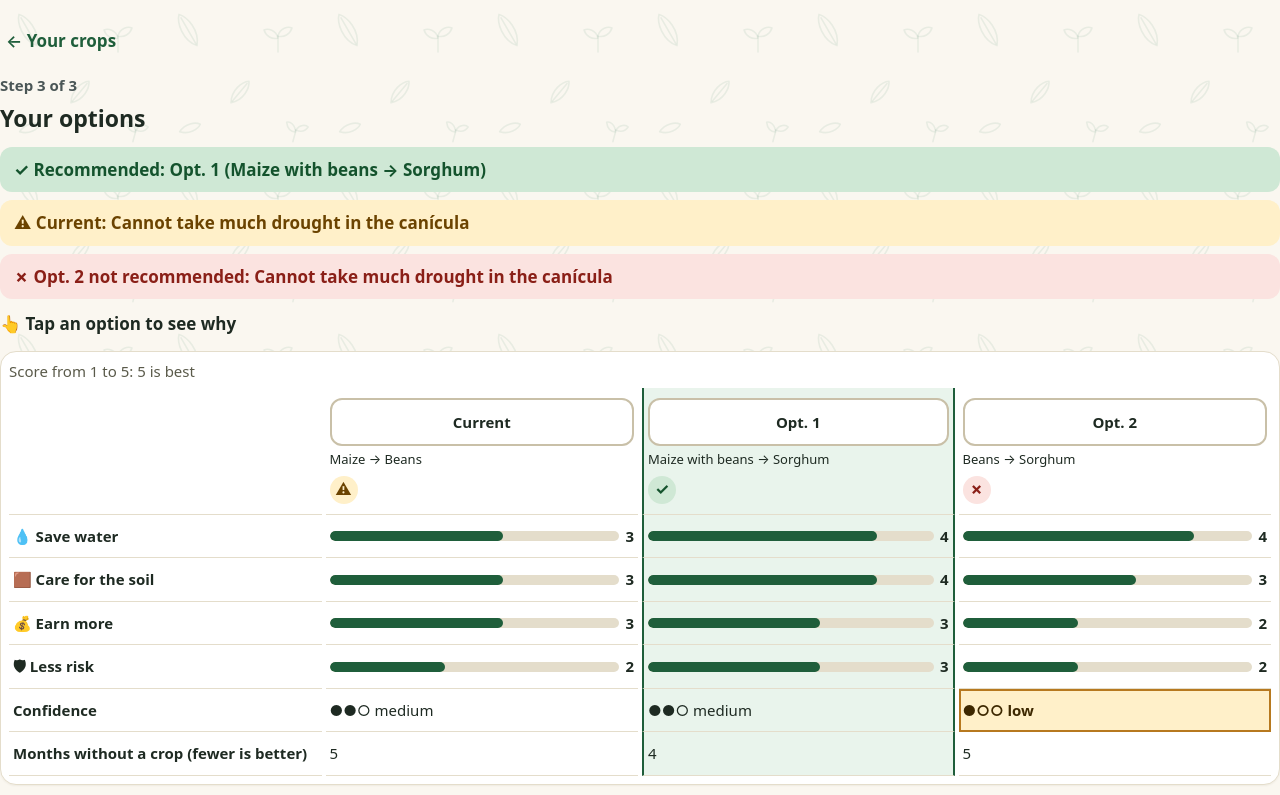
Test case: with lang=en the detail's back link names the option in English
The width and height of the screenshot is (1280, 795).
Step 1. Click the button "Opt. 1" → (798, 422), box [648, 398, 948, 446]
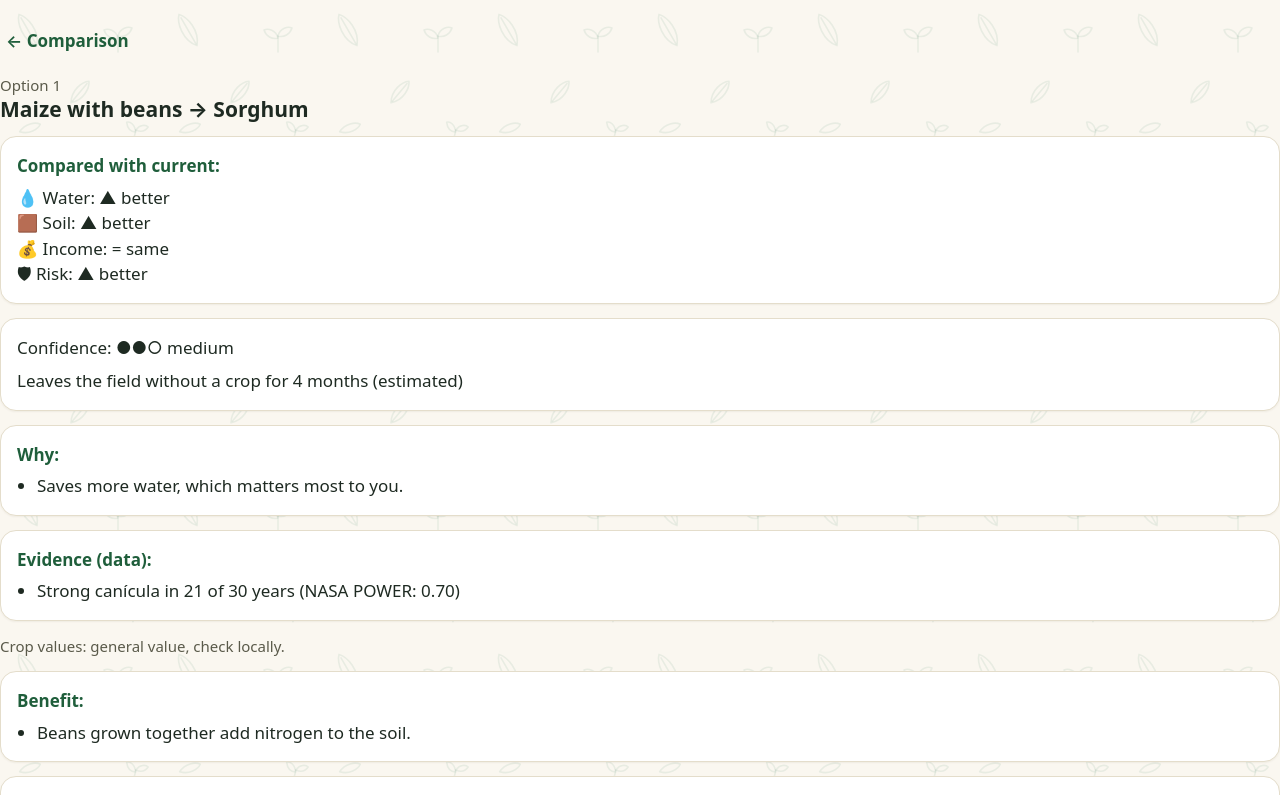
Step 2. Click the button "← Comparison" → (73, 41), box [0, 16, 147, 66]
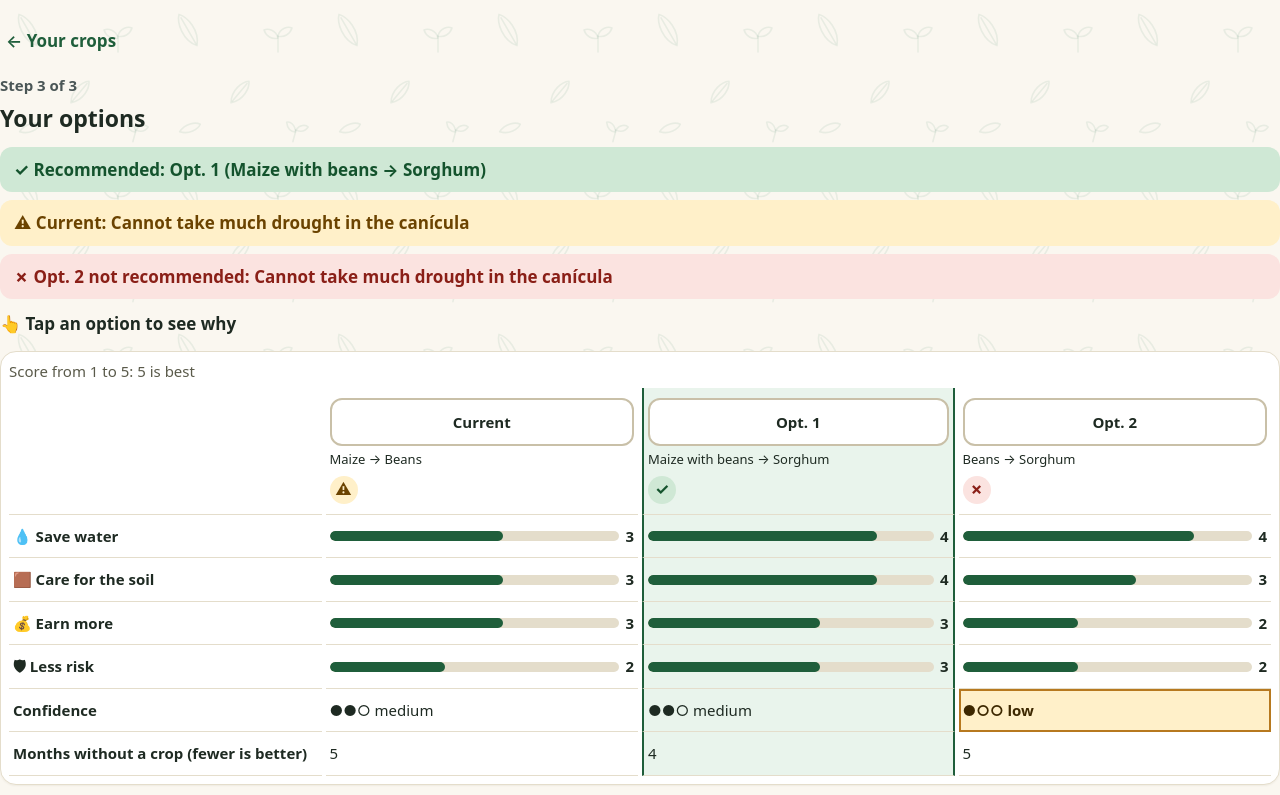
Expected: the button "Opt. 2" is shown, [962, 398, 1267, 446]
